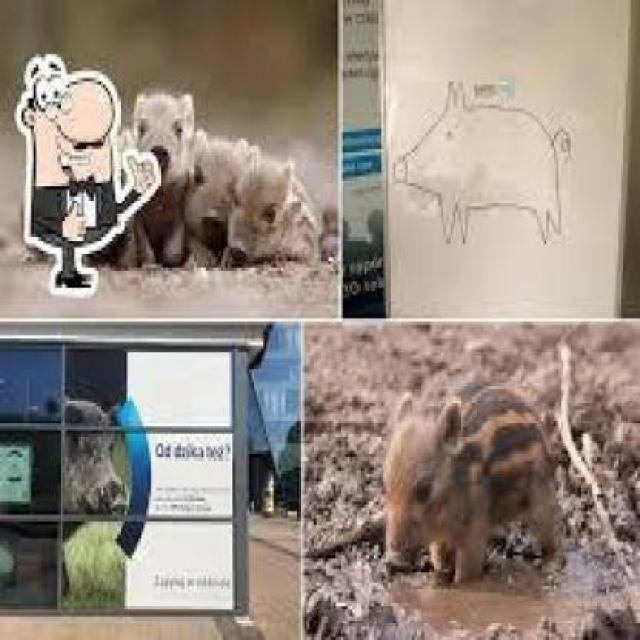wildboar: (387, 388, 564, 590), (0, 392, 129, 606), (227, 143, 328, 274), (188, 127, 268, 270), (128, 94, 198, 257)
